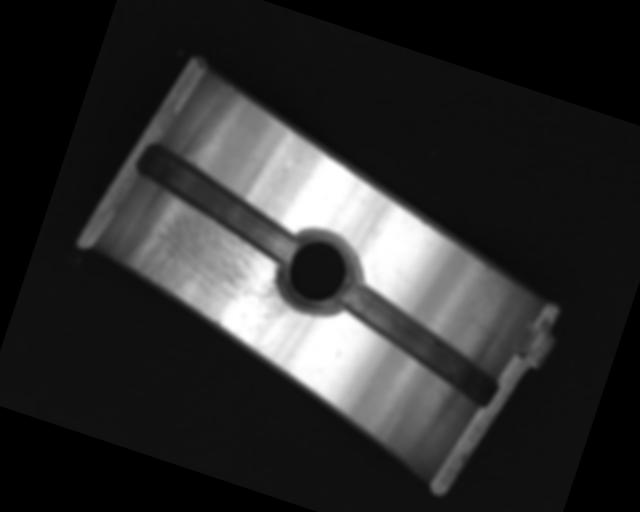gap: (324, 277, 517, 409), (120, 139, 316, 268)
hole: (266, 217, 372, 326)
scratch: (108, 181, 312, 360)
